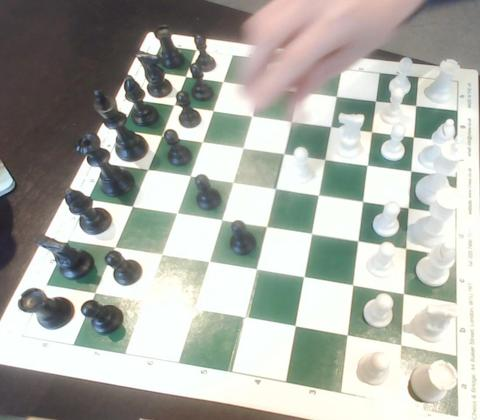xcorner: (405, 162, 422, 179), (185, 302, 201, 319), (288, 320, 304, 337), (341, 329, 357, 346), (199, 255, 216, 271), (398, 287, 414, 304), (305, 226, 321, 243), (352, 234, 369, 250), (401, 241, 417, 258), (180, 166, 196, 183), (223, 173, 240, 189), (267, 180, 284, 196), (357, 193, 374, 209), (403, 200, 420, 216), (318, 150, 335, 166), (243, 106, 260, 122), (324, 117, 341, 133), (366, 122, 382, 139), (177, 66, 193, 83), (291, 81, 307, 98), (330, 86, 346, 103), (409, 97, 426, 113), (86, 285, 102, 301), (135, 294, 151, 310), (236, 311, 252, 327), (395, 339, 411, 355), (105, 239, 121, 255), (152, 247, 168, 263), (248, 263, 264, 279), (297, 271, 313, 287), (347, 279, 363, 295), (122, 198, 138, 214), (167, 205, 183, 221), (212, 212, 228, 228), (258, 219, 274, 235), (138, 160, 154, 176), (312, 186, 328, 202), (152, 126, 168, 142), (193, 132, 209, 148), (234, 138, 250, 154), (276, 144, 292, 160), (362, 156, 378, 172), (165, 95, 181, 111), (204, 100, 220, 116), (284, 111, 300, 127), (408, 128, 424, 144), (214, 71, 230, 87), (252, 76, 268, 92), (369, 92, 385, 108)
